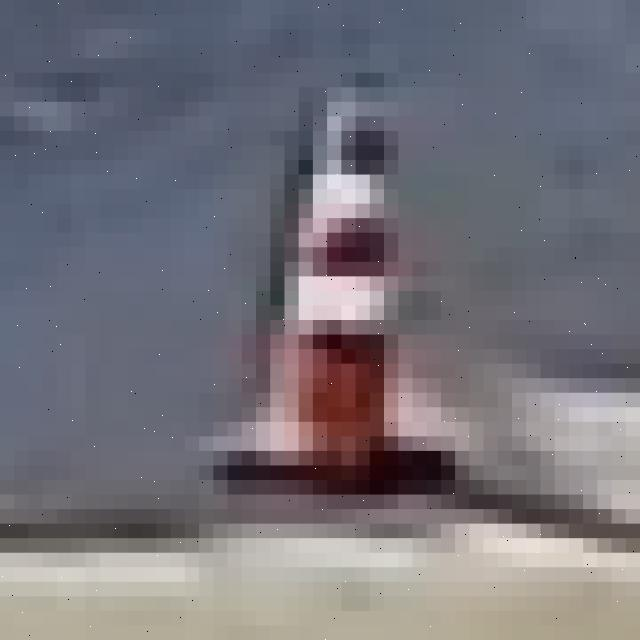small_cone: (242, 73, 398, 495)
